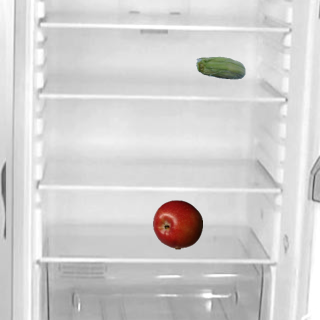Apple Braeburn: (152, 199, 202, 249)
Corn Husk: (195, 44, 245, 94)
